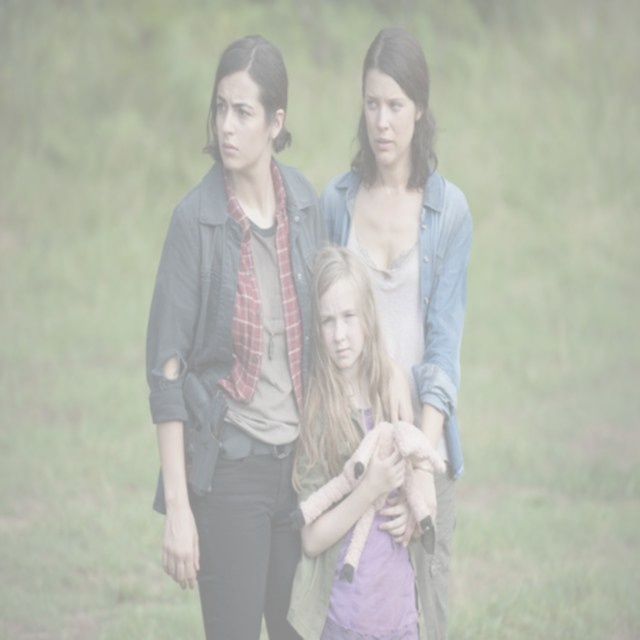pessoa: (142, 30, 344, 639), (318, 22, 476, 636), (284, 239, 432, 639)
